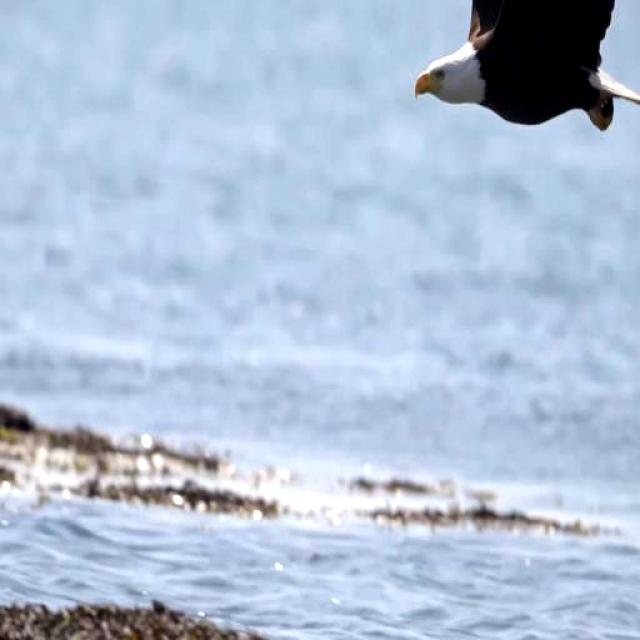airplane: (398, 0, 640, 154)
